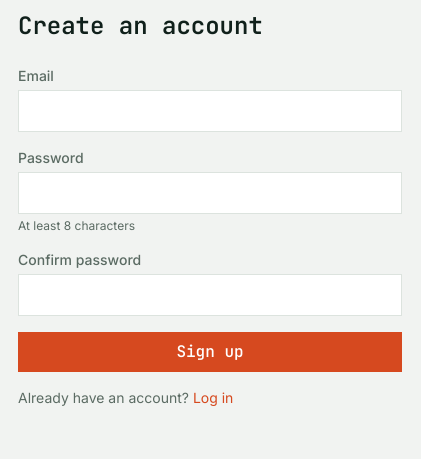
Signup › shows the server's error message when signup fails, without crashing on an array detail
Type "new@example.com" into the field labelled "Email".
click(210, 111); type("new@example.com")  # box [18,90,402,132]
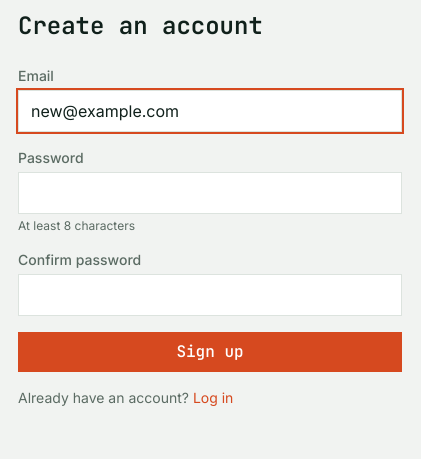
Type "testpassword123" into the password field labelled "Password".
click(210, 193); type("testpassword123")  # box [18,172,402,214]
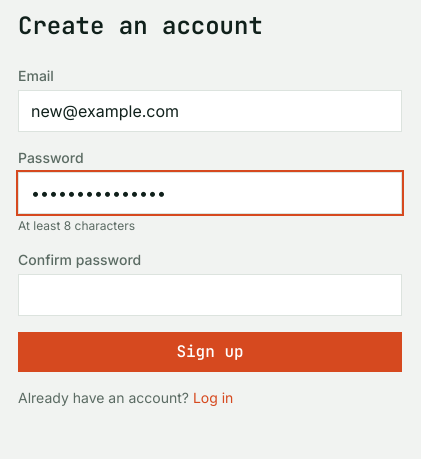
Type "testpassword123" into the password field labelled "Confirm password".
click(210, 295); type("testpassword123")  # box [18,274,402,316]
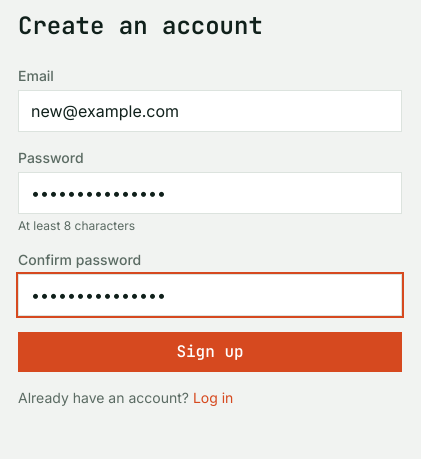
Click the button "Sign up".
click(210, 352)  # box [18,332,402,372]
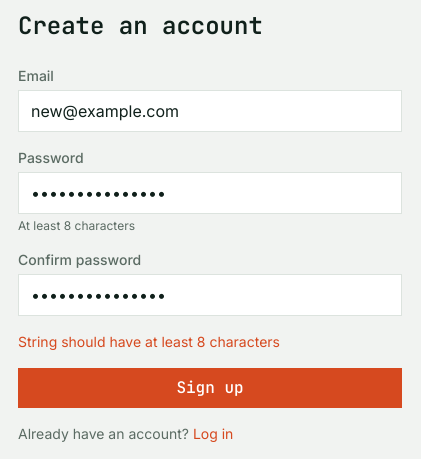
Expected: the text "String should have at least 8 characters" is shown, [18,333,280,350]
